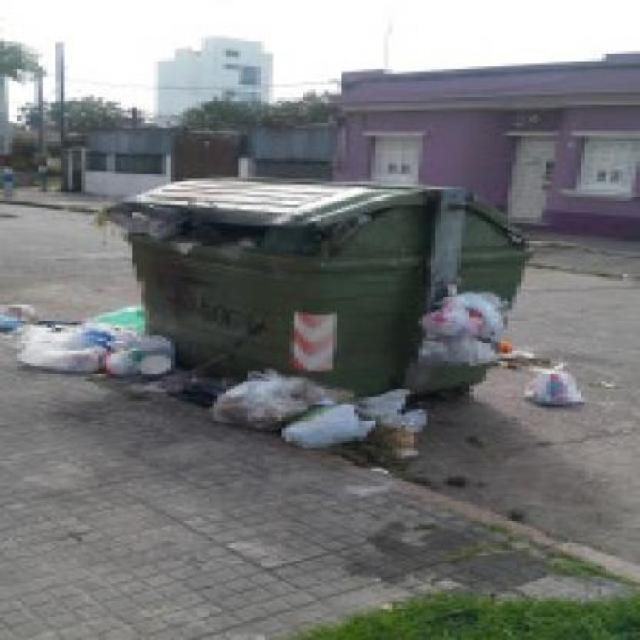garbage: (205, 371, 422, 442), (5, 305, 159, 374), (406, 282, 500, 366), (512, 354, 580, 408)
